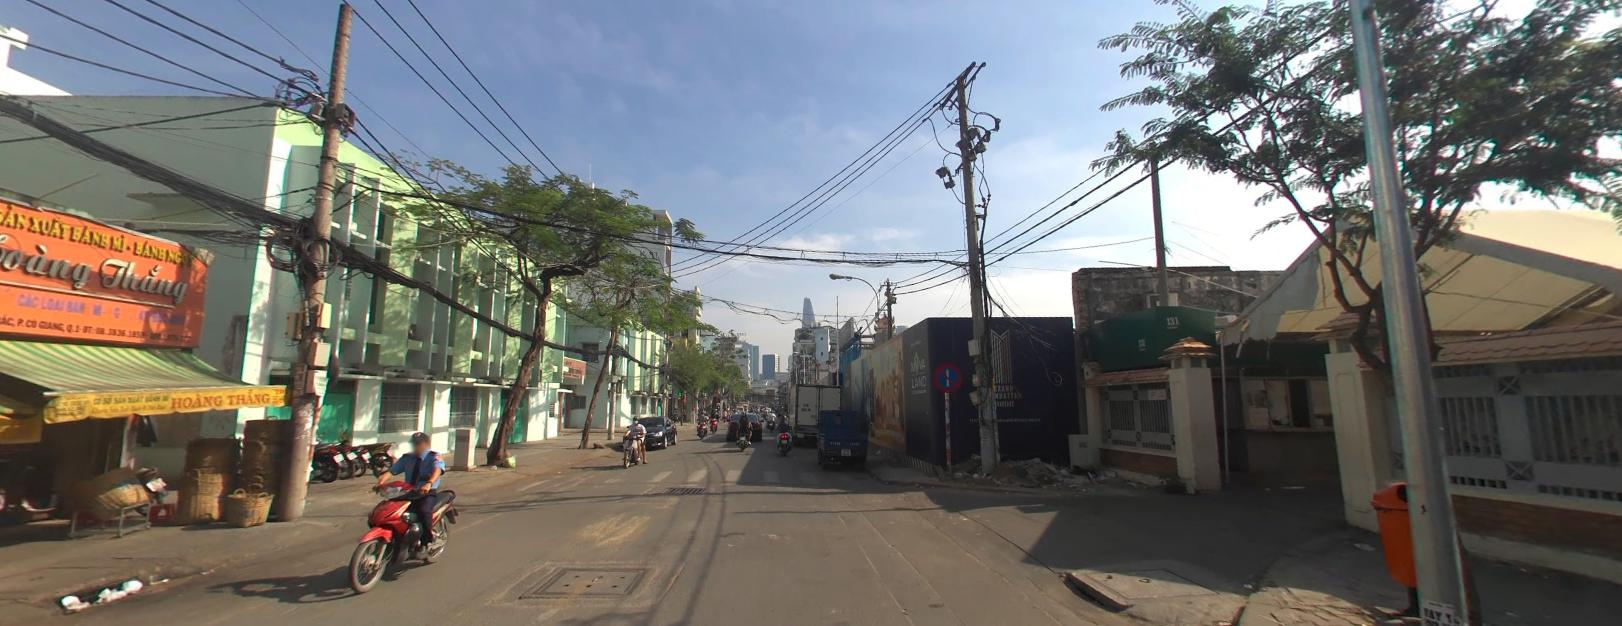Cam dung va do: (933, 362, 961, 391)
